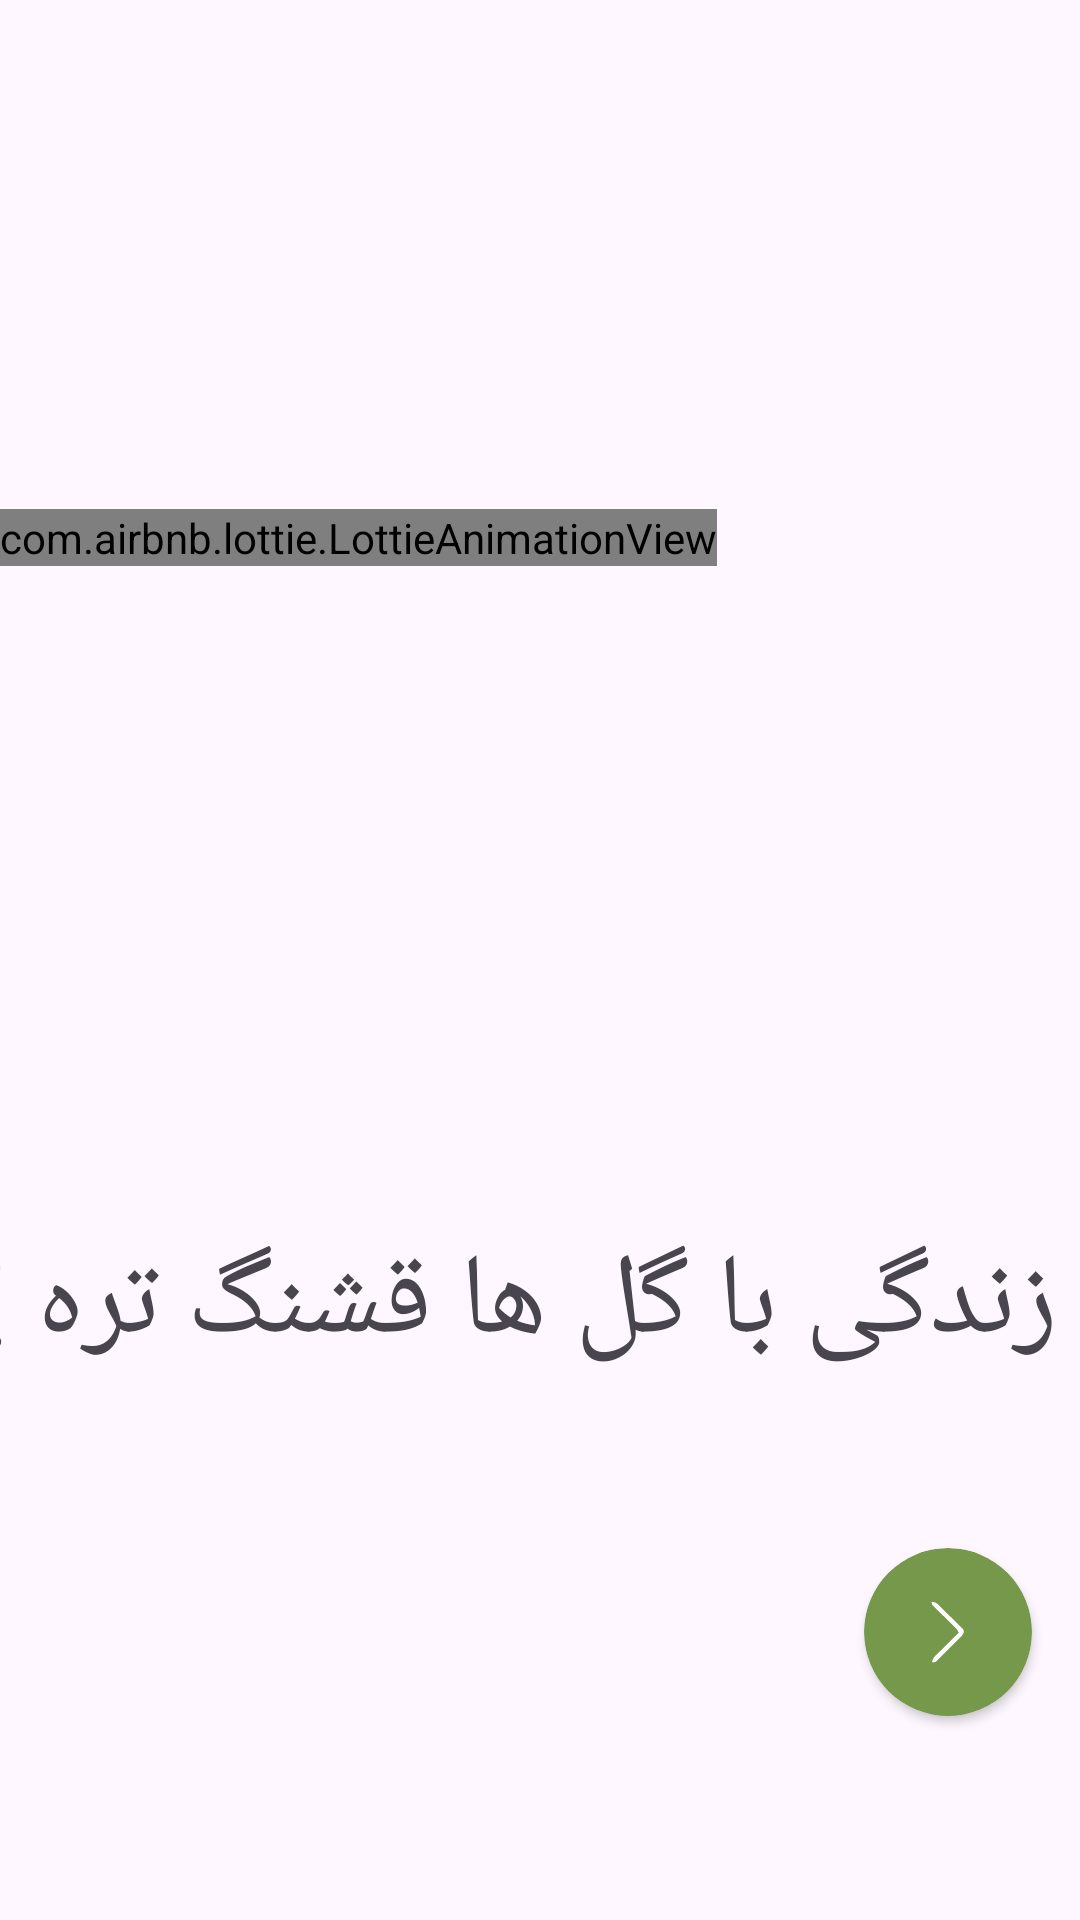

Icons on this 1080px×1920px Android screen, each with its box as (x1, y1, x2, y2):
forward arrow: (864, 1548, 1032, 1716)
